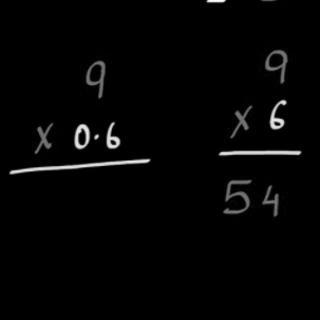.: (92, 131, 100, 144)
0: (69, 119, 91, 152)
4: (258, 169, 281, 219)
5: (219, 174, 254, 220)
6: (267, 96, 290, 134), (104, 121, 128, 153)
9: (79, 52, 116, 107), (258, 43, 288, 91)
